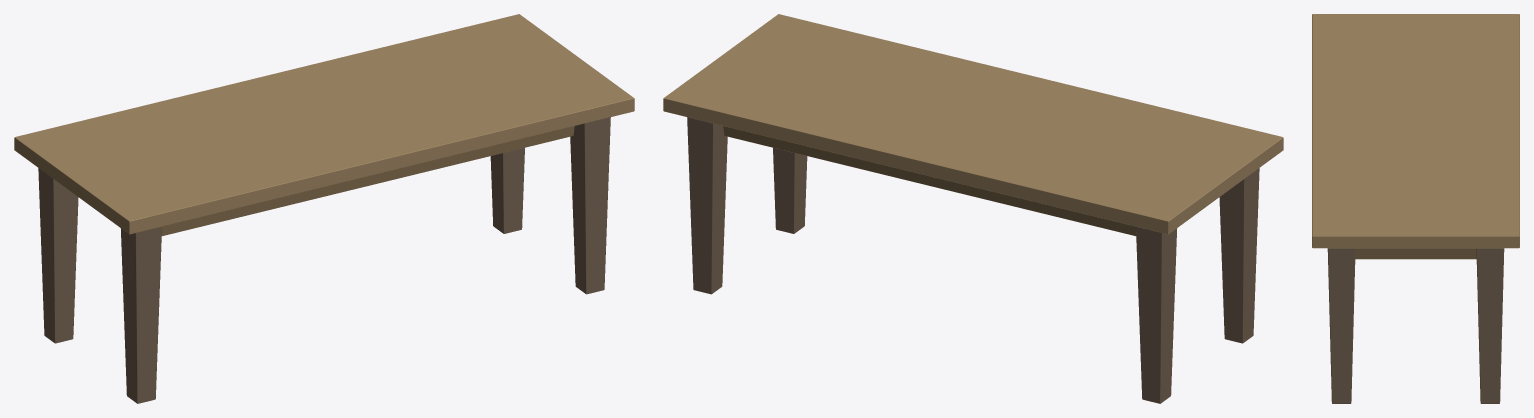
The model's file is SideTable.fbx.
3 views of the same model, side by side, from view 1: azimuth 30°, elevation 25°; view 2: azimuth 150°, elevation 25°; view 3: azimuth 270°, elevation 25° (orthographic). The views are drawn at different scales.
Visible parts, largest first — view 1: SideTable; view 2: SideTable; view 3: SideTable.
Part boxes in pixels (x1,y1,x2,y2): SideTable: (14, 14, 634, 403); SideTable: (663, 14, 1283, 403); SideTable: (1312, 14, 1519, 403).
Bounding box in the file's own units: 169 × 62.46 × 66.67.
